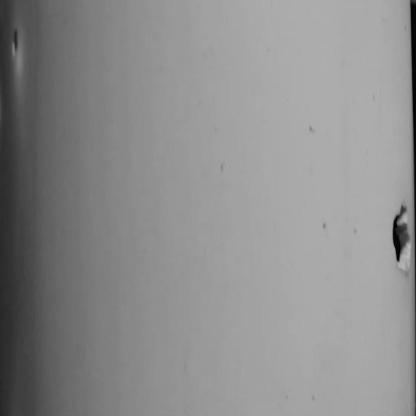kongdong: (377, 189, 414, 279), (8, 21, 26, 63)
